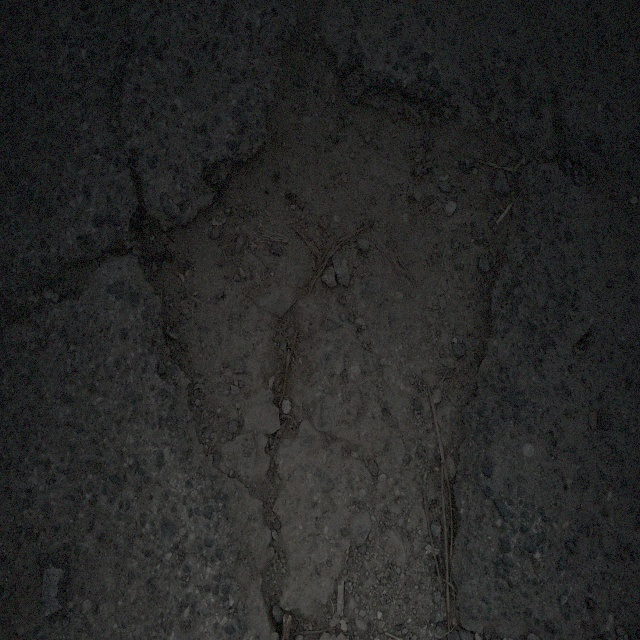pothole: (145, 67, 531, 616)
